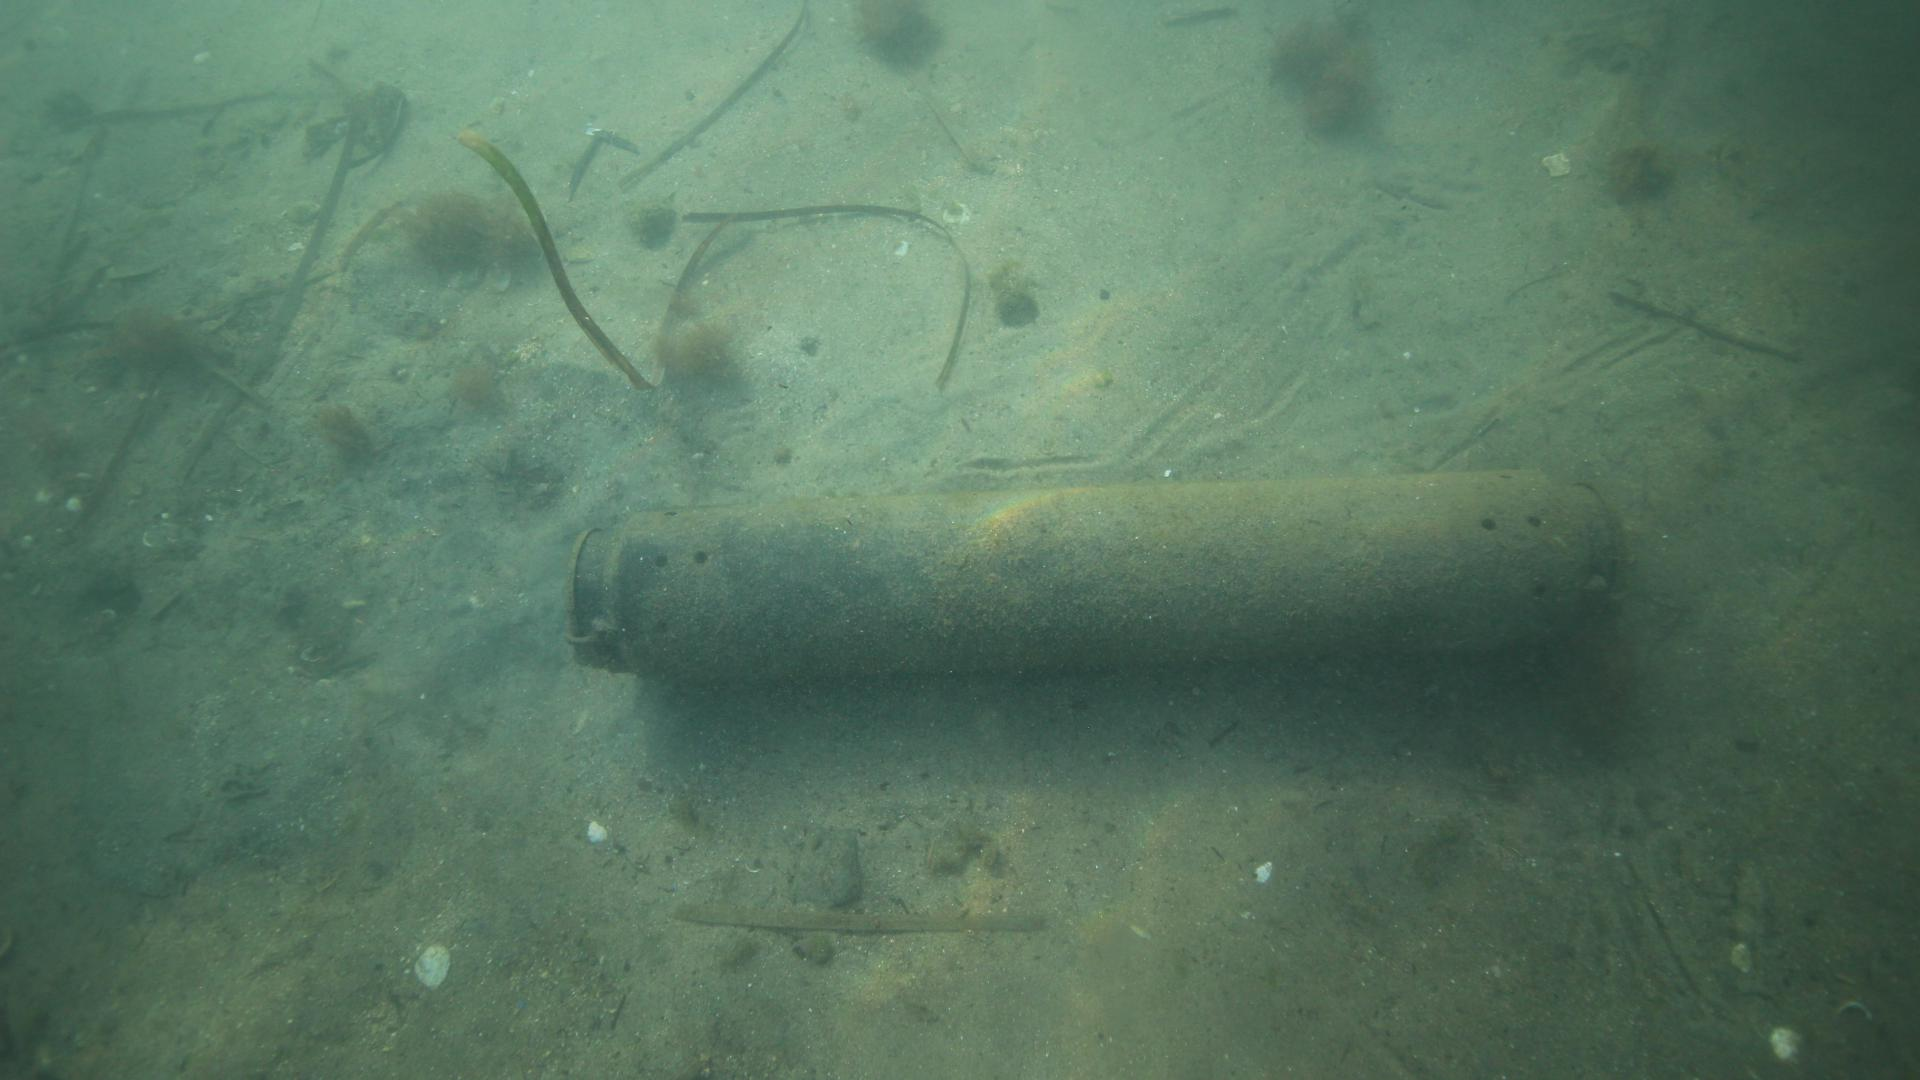eel fish trap: (568, 455, 1630, 688)
